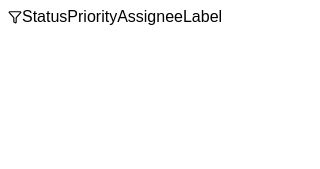
Test: FilterBar › opens status dropdown and shows statuses
Click the button with aria-label "Filter by Status" at (45, 17), box [22, 8, 67, 26]
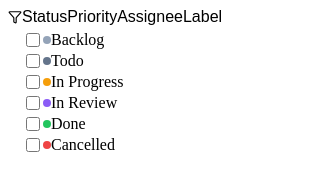
Check: the text "Backlog" is shown, box [51, 31, 104, 49]
Check: the text "Todo" is shown, box [51, 52, 84, 70]
Check: the text "In Progress" is shown, box [51, 73, 123, 91]
